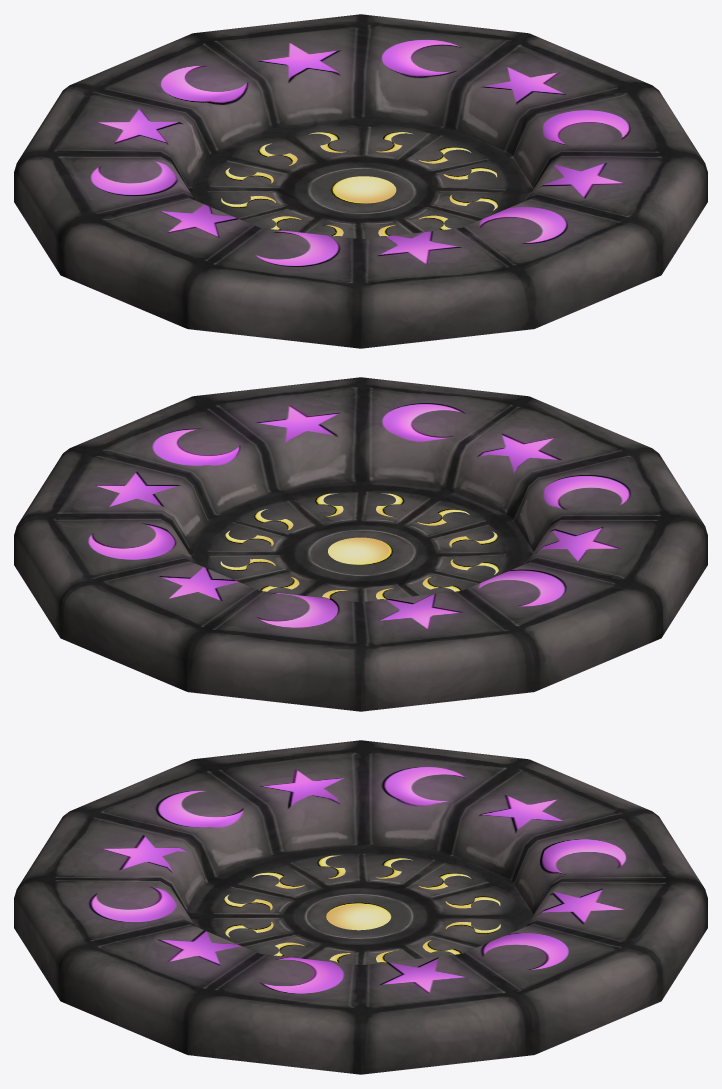
Rendered from Portal_StonePlatform-Celestial.fbx.
3 views of the same model, one above another, from view 1: azimuth 30°, elevation 25°; view 2: azimuth 150°, elevation 25°; view 3: azimuth 270°, elevation 25° (orthographic).
Parts seen in each view (by area): view 1: Portal_StonePlatform-Celestial, Portal_StonePlatform-Inscryption-Celestial; view 2: Portal_StonePlatform-Celestial, Portal_StonePlatform-Inscryption-Celestial; view 3: Portal_StonePlatform-Celestial, Portal_StonePlatform-Inscryption-Celestial.
Boxes of the visible parts, bbox=[...] form: Portal_StonePlatform-Celestial: bbox=[14, 14, 707, 348]; Portal_StonePlatform-Inscryption-Celestial: bbox=[221, 132, 498, 236]; Portal_StonePlatform-Celestial: bbox=[14, 377, 707, 711]; Portal_StonePlatform-Inscryption-Celestial: bbox=[220, 493, 499, 599]; Portal_StonePlatform-Celestial: bbox=[14, 740, 707, 1074]; Portal_StonePlatform-Inscryption-Celestial: bbox=[224, 855, 500, 962].
Bounding box in the file's own units: 3784 × 289 × 3784.
Materials: 2 (2 with a texture image).
